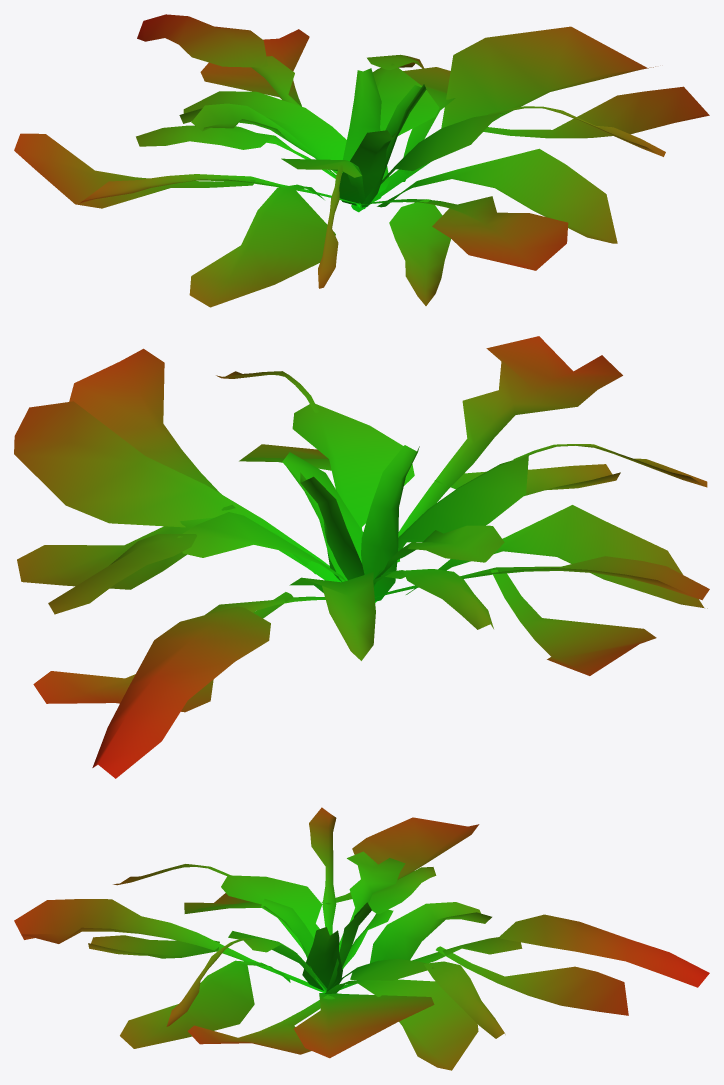
Rendered from Var5_LOD0.fbx.
The picture shows the model from 3 angles, top to bottom: view 1: azimuth 30°, elevation 25°; view 2: azimuth 150°, elevation 25°; view 3: azimuth 270°, elevation 25°; orthographic projection. The views are drawn at different scales.
Parts seen in each view (by area): view 1: _b5d2_Var5_LOD0; view 2: _b5d2_Var5_LOD0; view 3: _b5d2_Var5_LOD0.
Part boxes in pixels (bbox=[...]): _b5d2_Var5_LOD0: bbox=[14, 14, 709, 307]; _b5d2_Var5_LOD0: bbox=[14, 336, 709, 778]; _b5d2_Var5_LOD0: bbox=[14, 807, 709, 1070].
Bounding box in the file's own units: 53.45 × 10.5 × 64.48.
